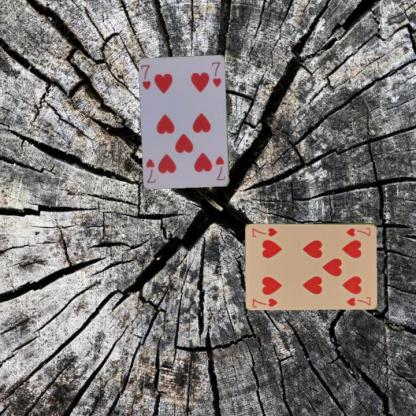7h: (213, 154, 227, 182), (139, 63, 152, 92), (250, 296, 279, 308), (344, 225, 371, 237)
